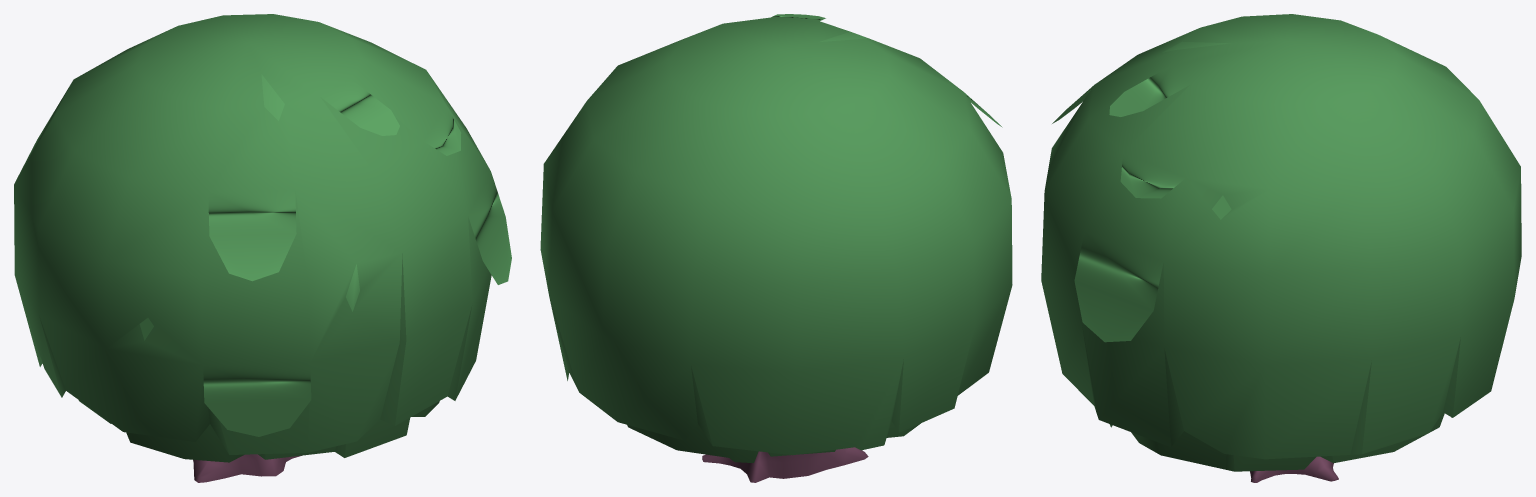
File: Bush_Round.fbx
The picture shows the model from 3 angles, left to right: view 1: azimuth 30°, elevation 25°; view 2: azimuth 150°, elevation 25°; view 3: azimuth 270°, elevation 25°; orthographic projection. The views are drawn at different scales.
Parts seen in each view (by area): view 1: Bush_Round; view 2: Bush_Round; view 3: Bush_Round.
Part boxes in pixels (<box>): Bush_Round: <box>14,14,511,482</box>; Bush_Round: <box>540,14,1012,482</box>; Bush_Round: <box>1041,14,1521,482</box>.
Size of the model in its own units: 3.16 by 2.97 by 3.13.
